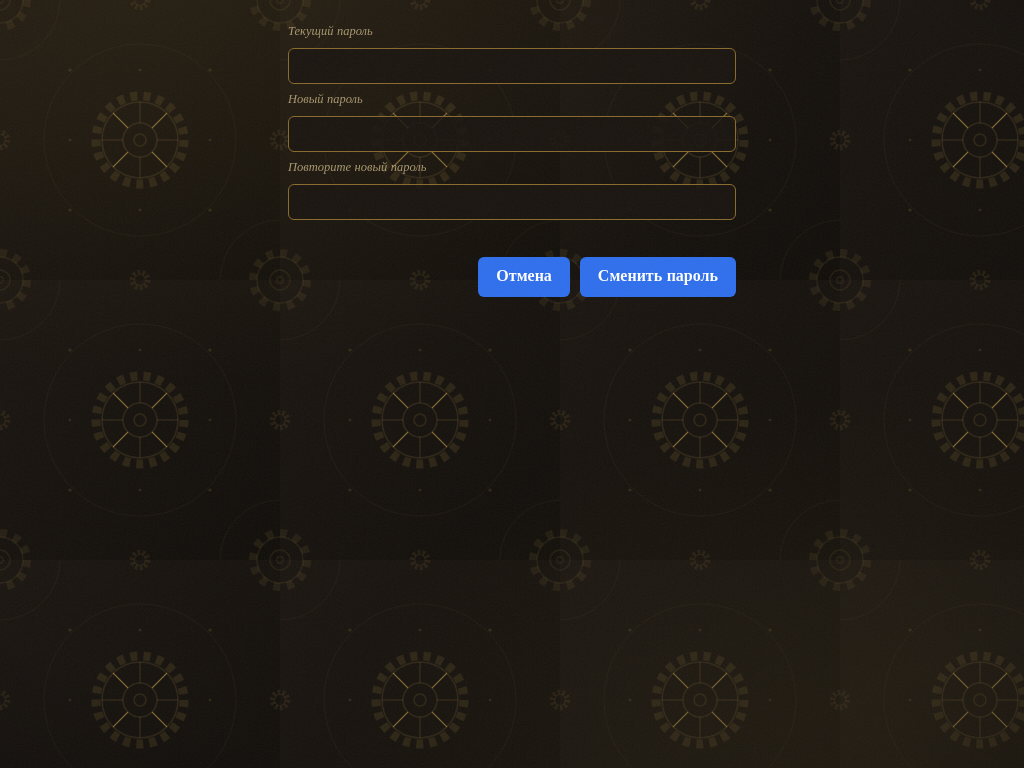
Test case: PasswordChangeModal › client validation blocks submit for длину меньше 8 символов: no request, russian inline alert
Type "old-pass-123" into the password field labelled "Текущий пароль".
click(512, 66); type("old-pass-123")  # box [288,48,736,84]
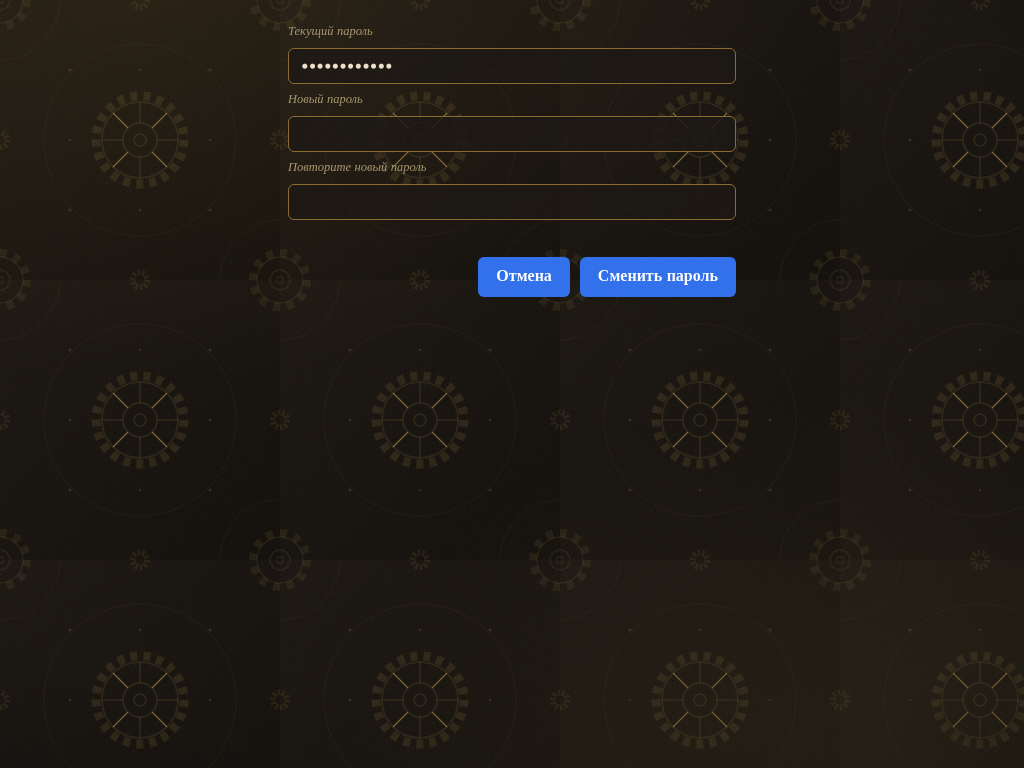
Type "Sh0rt!1" into the password field labelled "Новый пароль".
click(512, 134); type("Sh0rt!1")  # box [288,116,736,152]
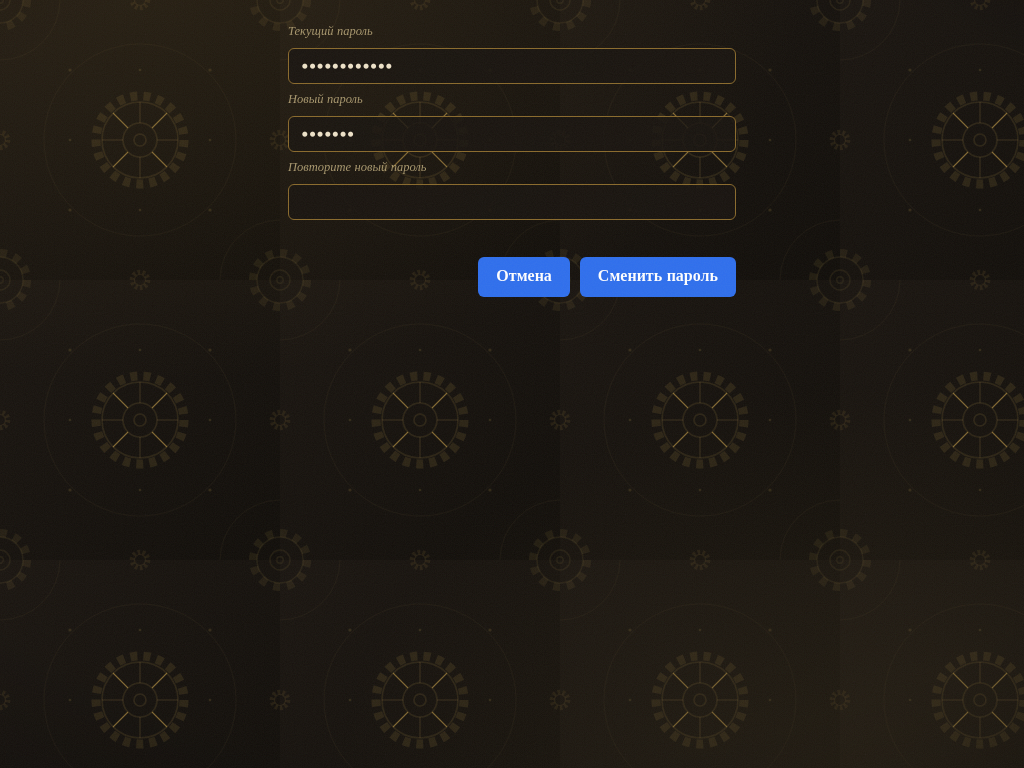
Type "Sh0rt!1" into the password field labelled "Повторите новый пароль".
click(512, 202); type("Sh0rt!1")  # box [288,184,736,220]
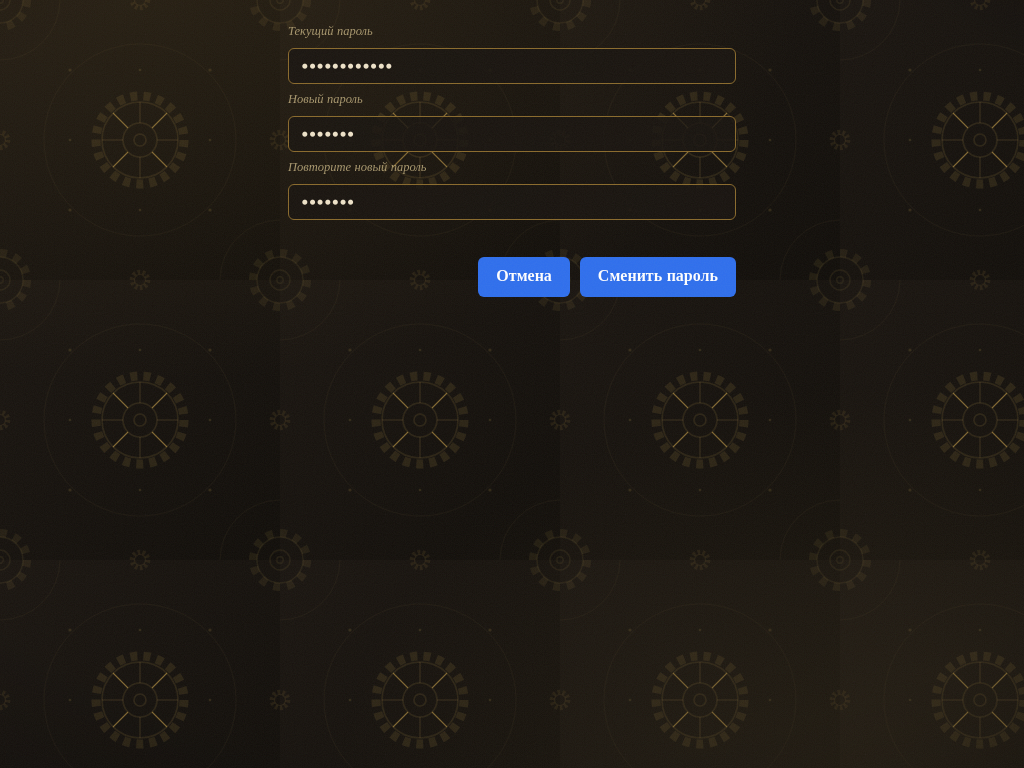
Click the button "Сменить пароль".
click(658, 277)  # box [580,257,736,297]
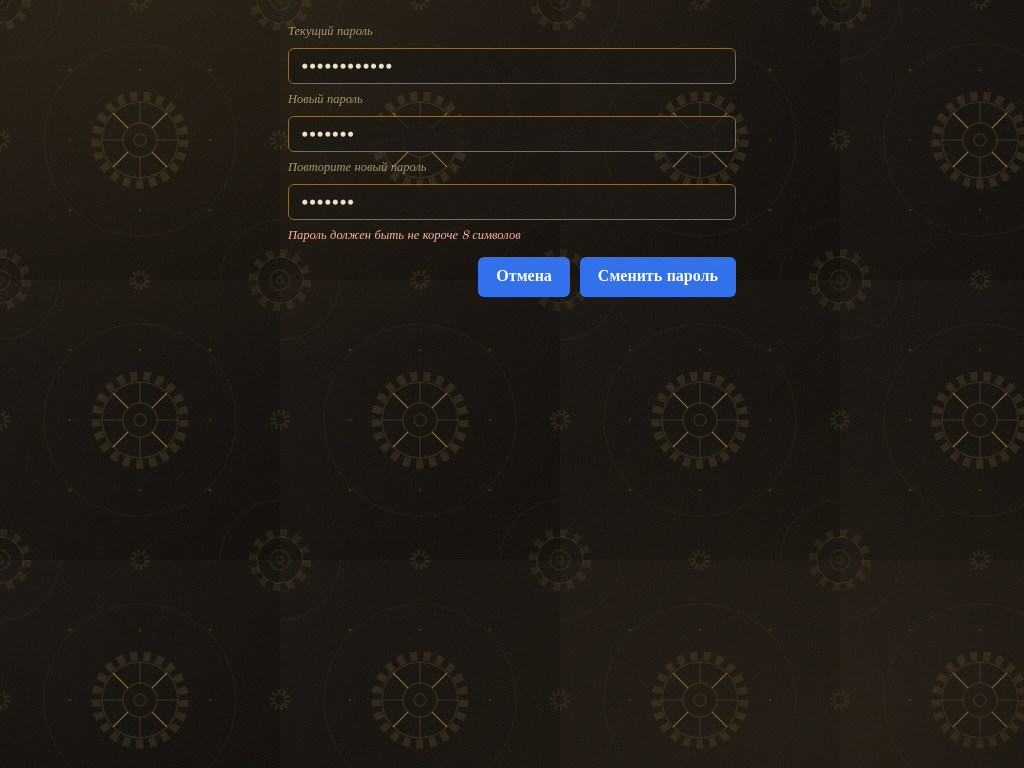
Result: the message reads "Пароль должен быть не короче 8 символов" at [288,229,521,242]
